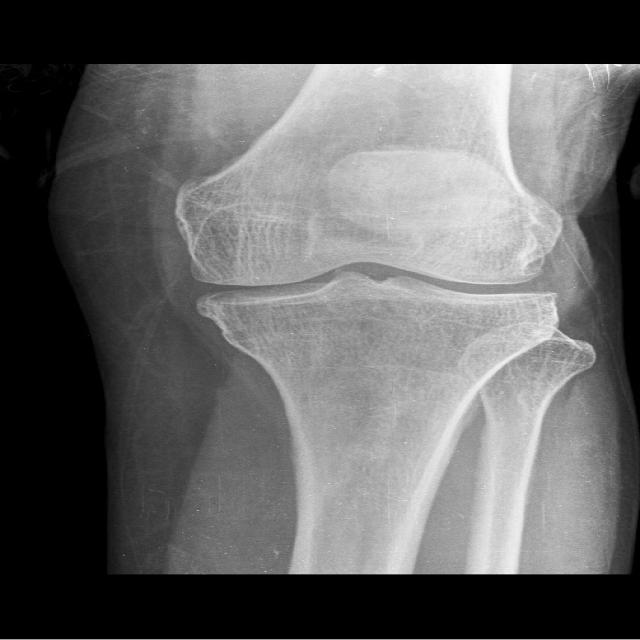osteo: (168, 169, 570, 335)
